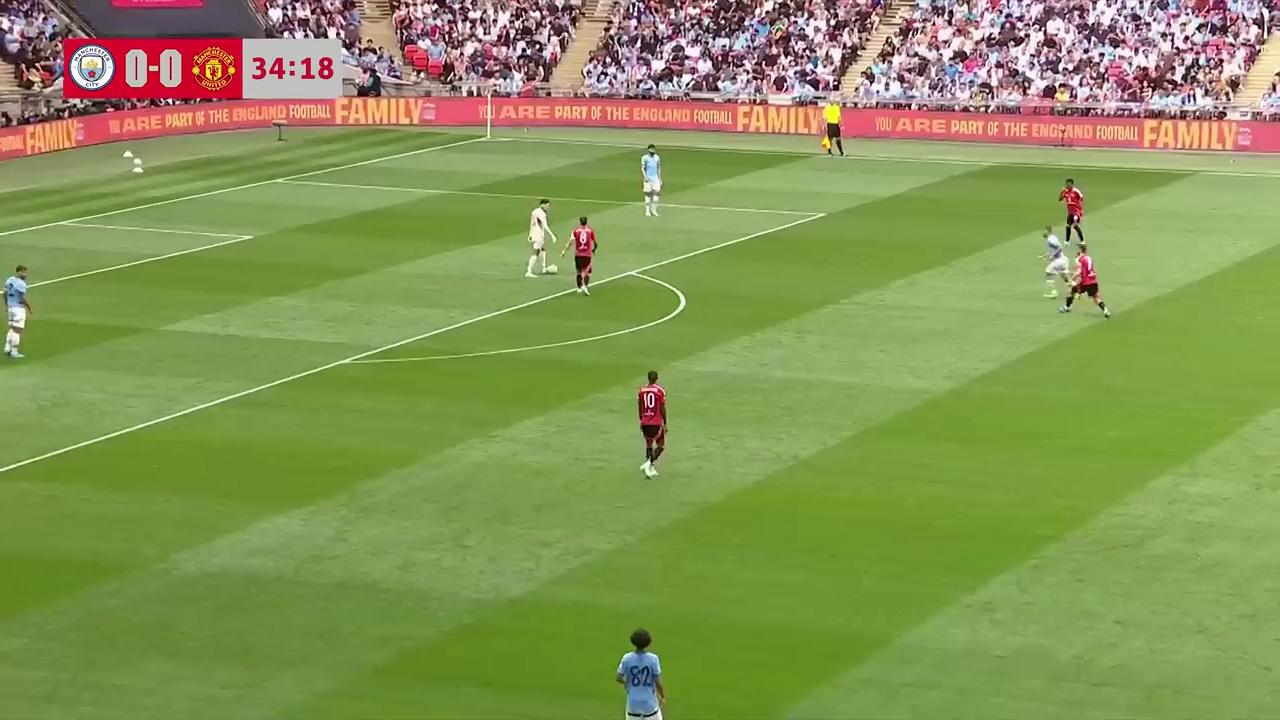ball: (546, 262, 559, 275)
player: (616, 629, 667, 720), (1059, 239, 1109, 317), (637, 369, 667, 480), (563, 215, 597, 296), (1, 270, 31, 358), (525, 201, 556, 276), (1039, 225, 1066, 292), (1058, 179, 1084, 247), (640, 144, 661, 217)
referee: (821, 103, 846, 157)
